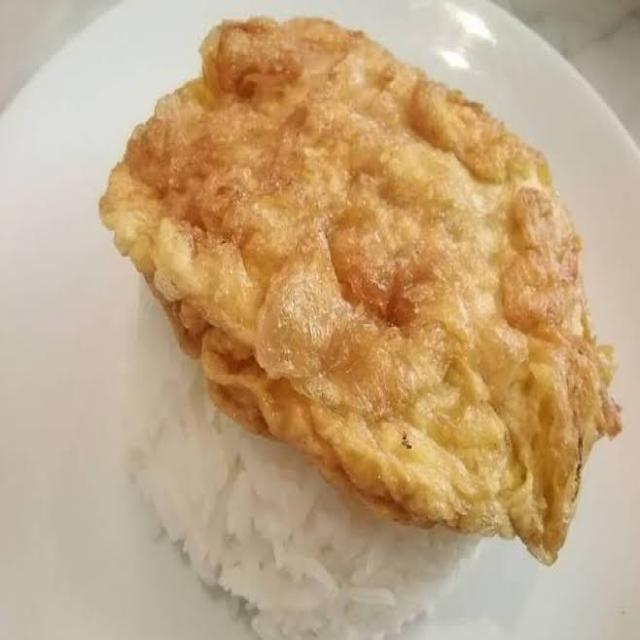carb: (130, 356, 437, 616)
meat: (149, 53, 601, 490)
omelette rice: (53, 24, 571, 592)
